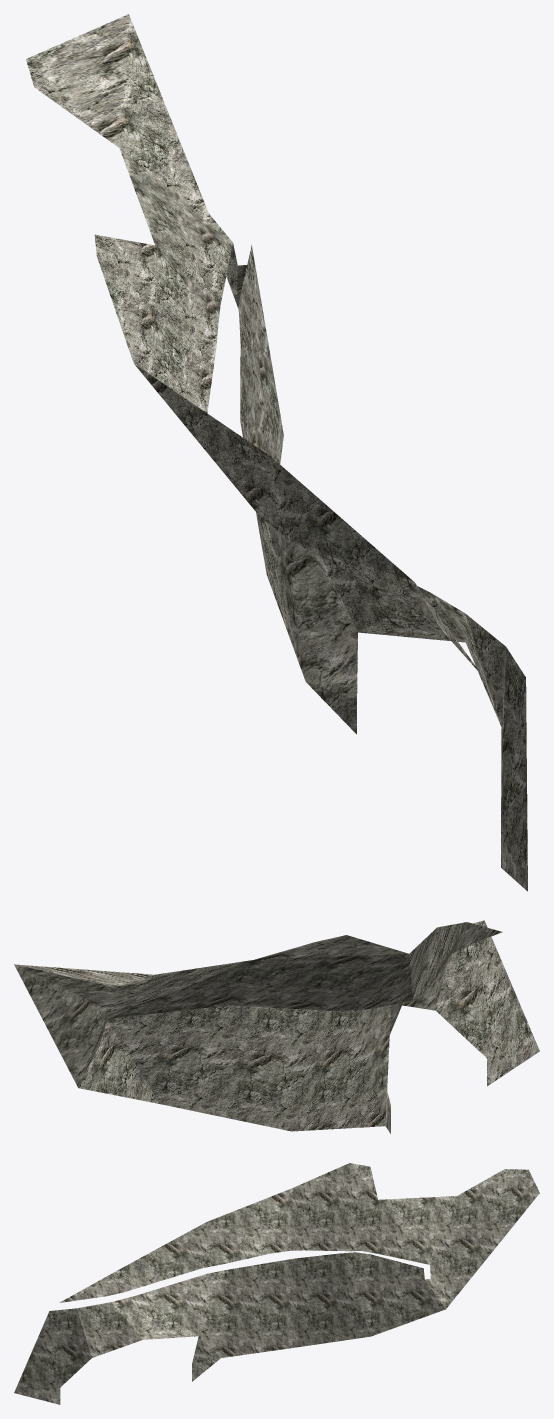
Rendered from cs_landbit_36_a.obj.
3 renders of one model, top to bottom at view 1: azimuth 30°, elevation 25°; view 2: azimuth 150°, elevation 25°; view 3: azimuth 270°, elevation 25°, orthographic. The views are drawn at different scales.
Visible parts, largest first — view 1: cs_landbit_36_A; view 2: cs_landbit_36_A; view 3: cs_landbit_36_A.
Boxes of the visible parts, x1,y1,x2,y2 form: cs_landbit_36_A: [26, 14, 527, 891]; cs_landbit_36_A: [14, 920, 539, 1133]; cs_landbit_36_A: [14, 1163, 539, 1404].
Size of the model in its own units: 58.03 by 103 by 206.
